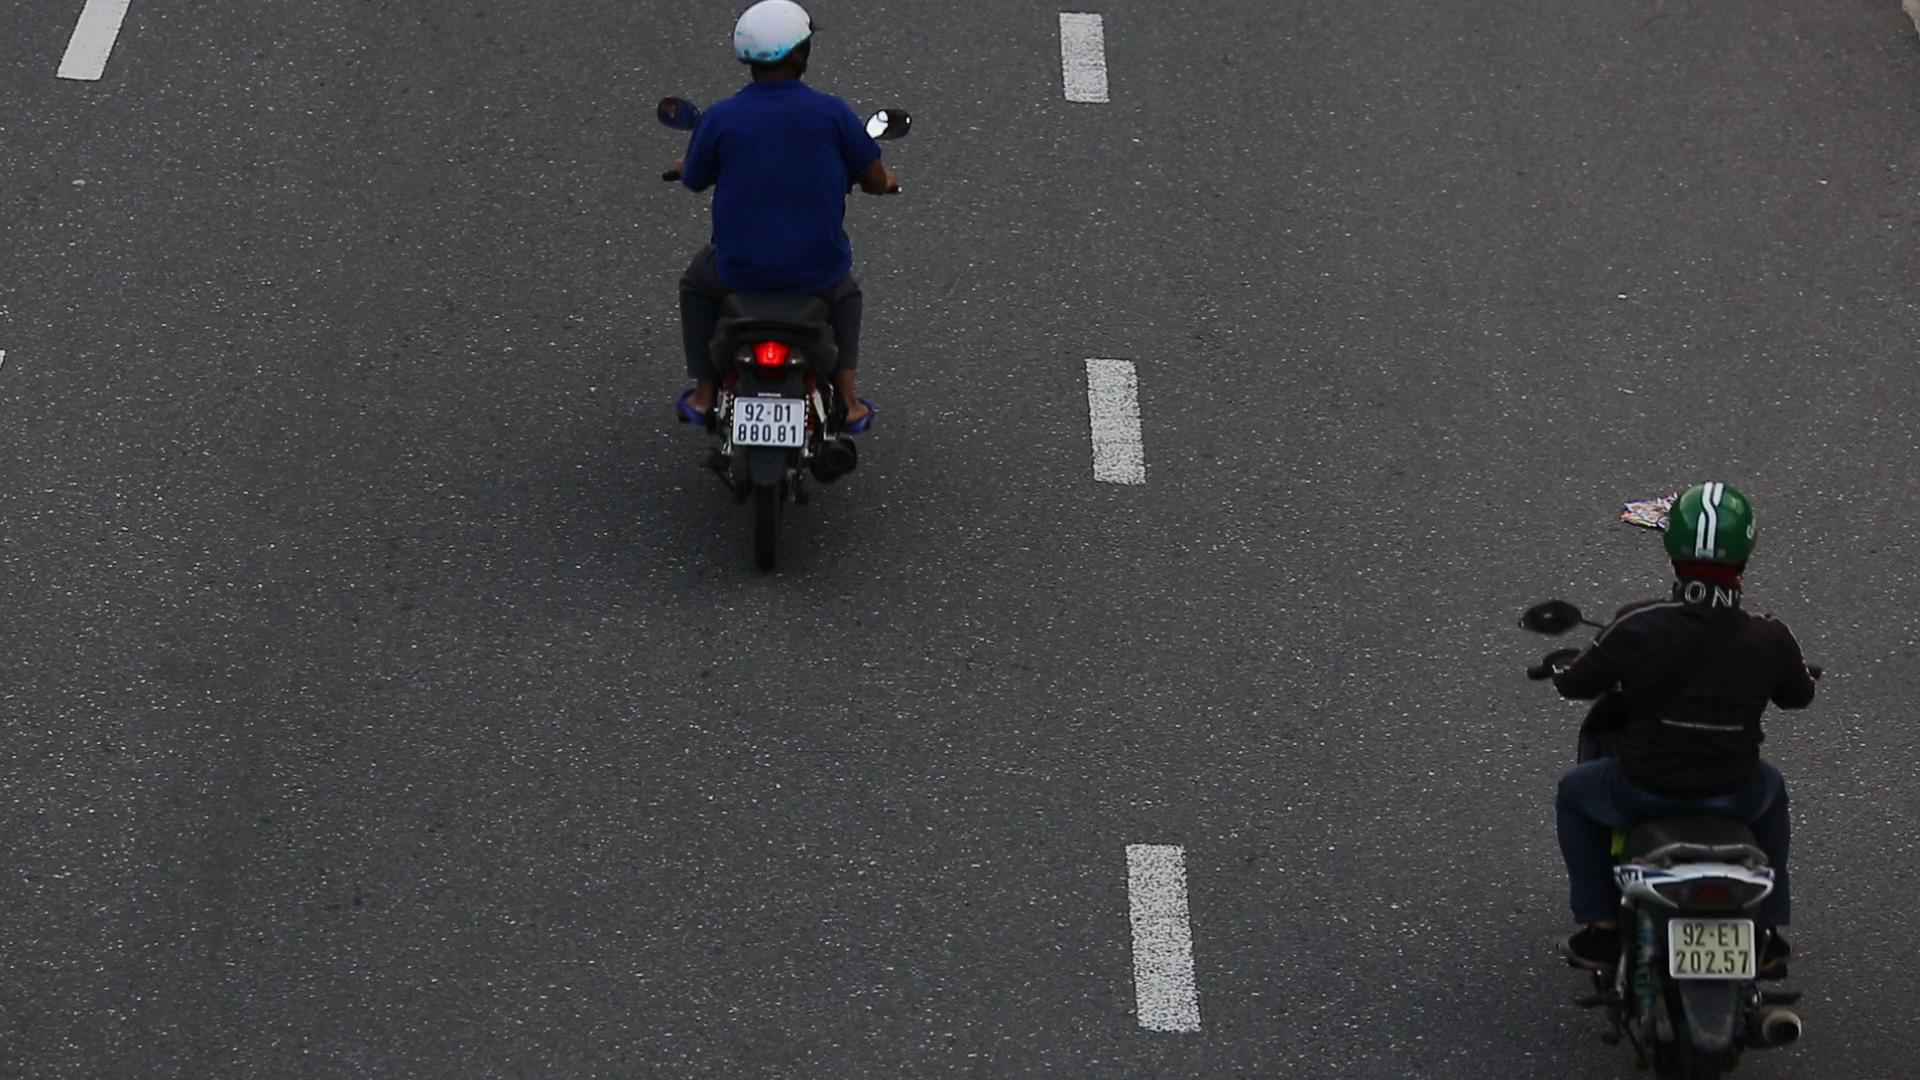motobike: (1527, 460, 1853, 1080), (630, 0, 919, 617)
